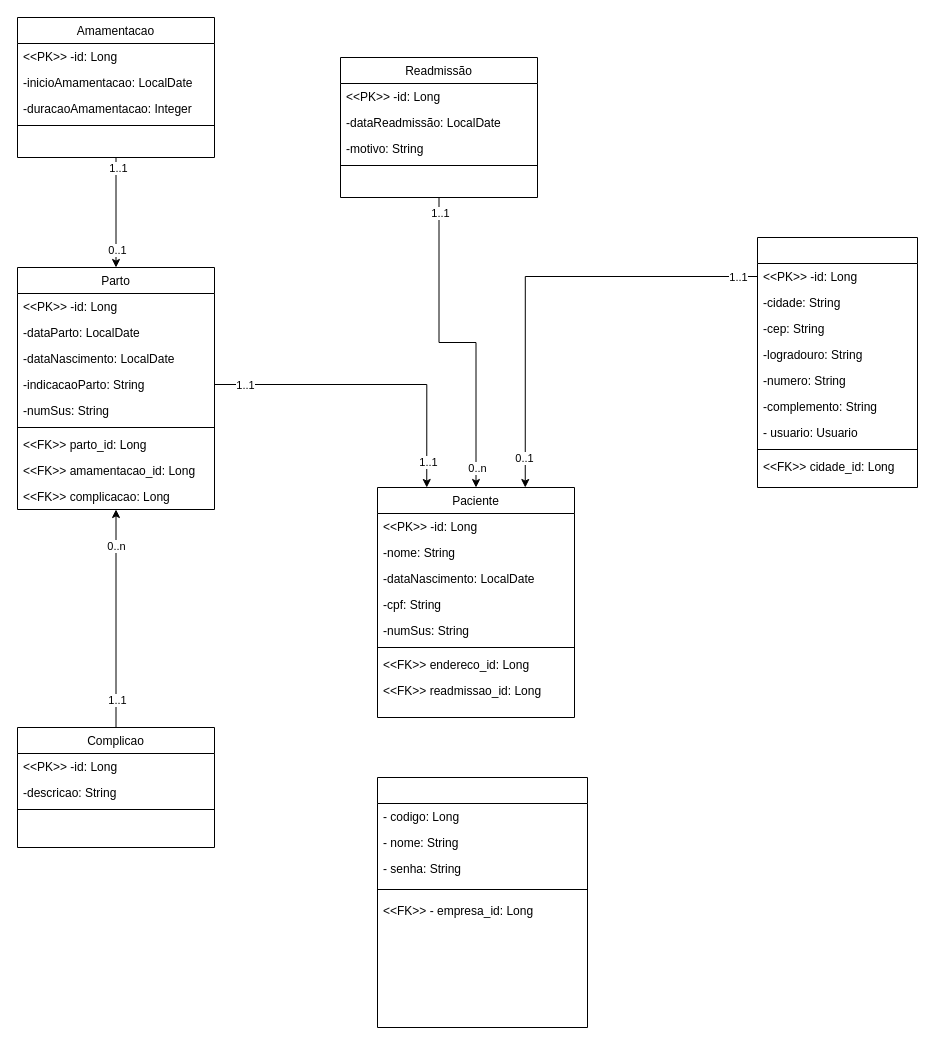
Some shapes in this 935 by 1045 pixel diagram are drawn without their labels. The shapes that lost their labels are listed below. From the top down, each one's box as (x1, y1, x2, y2) in pixels, then its label:
(756, 236, 918, 488): Endereco
(376, 776, 588, 1028): Usuario
